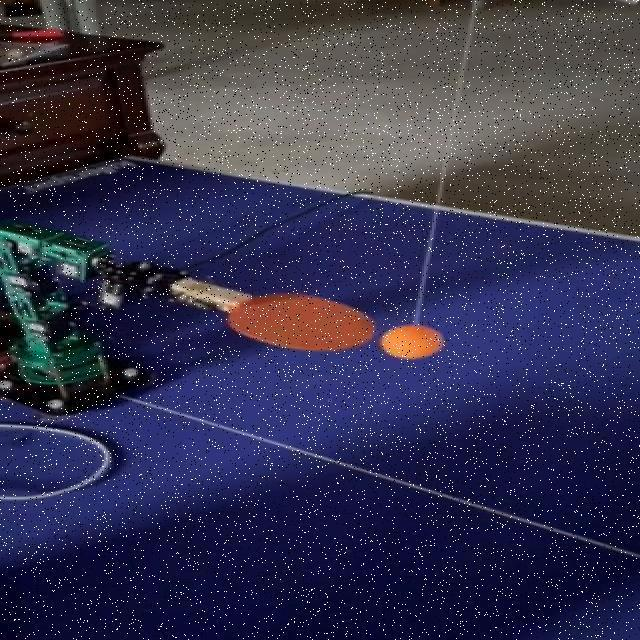ping-pong-ball: (384, 324, 440, 359)
